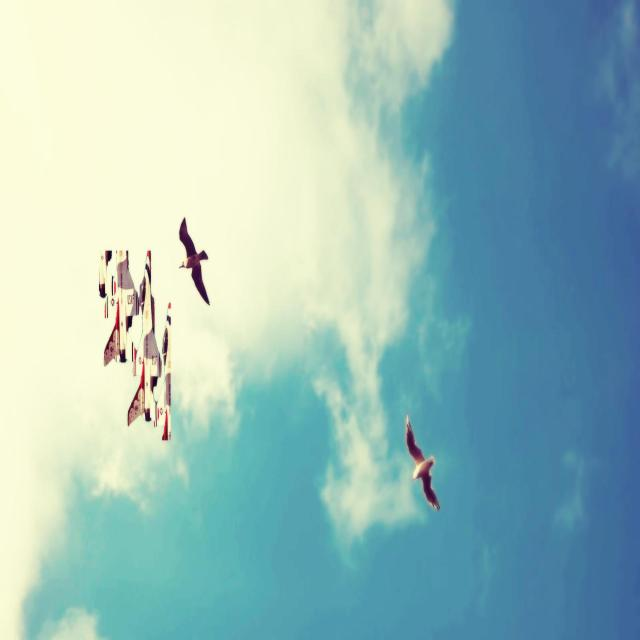airplane: (98, 247, 172, 441)
